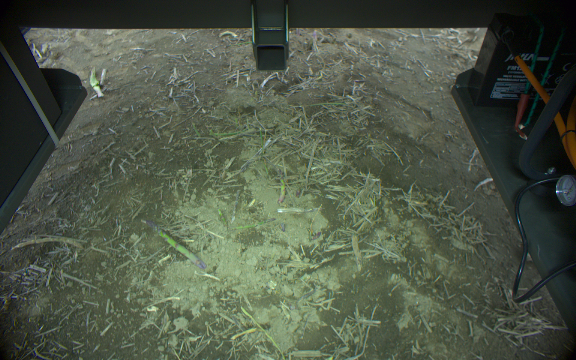aspa: (145, 220, 205, 268), (233, 216, 275, 230), (275, 169, 288, 204), (214, 206, 227, 227)
